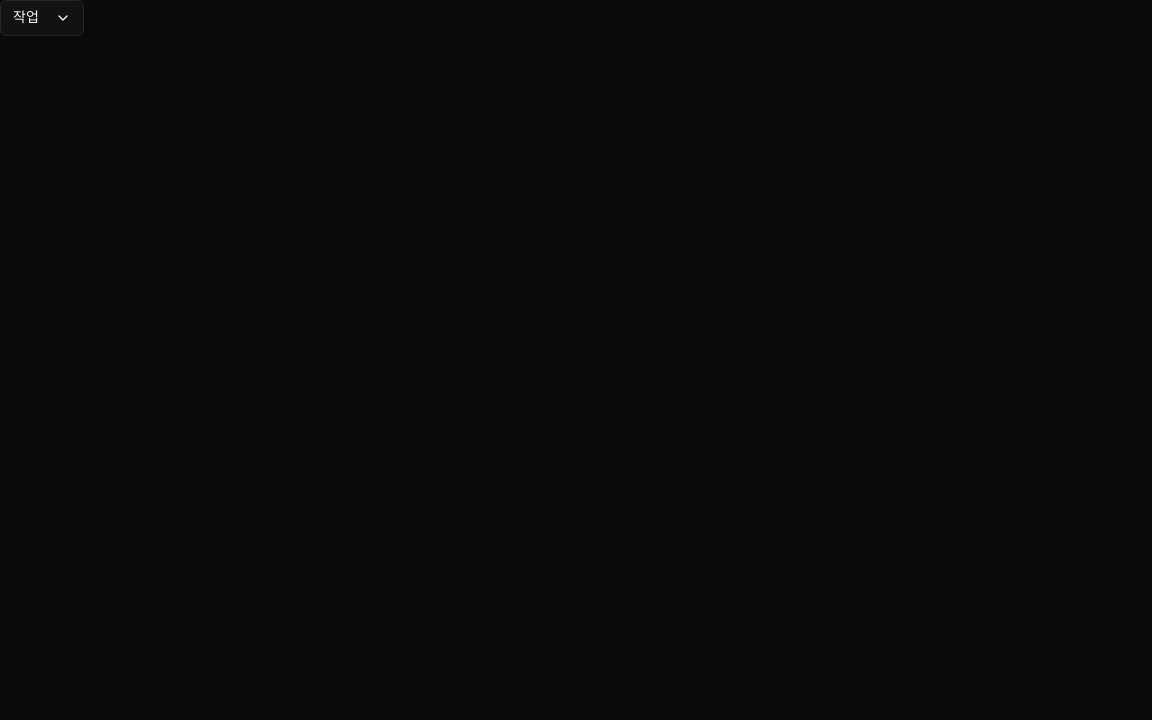
Test: PartyroomsActionsDropdown — status-aware disabled › clicking 메타 수정 opens update-meta dialog
Click the button "작업".
click(42, 18)  # box [0,0,84,36]
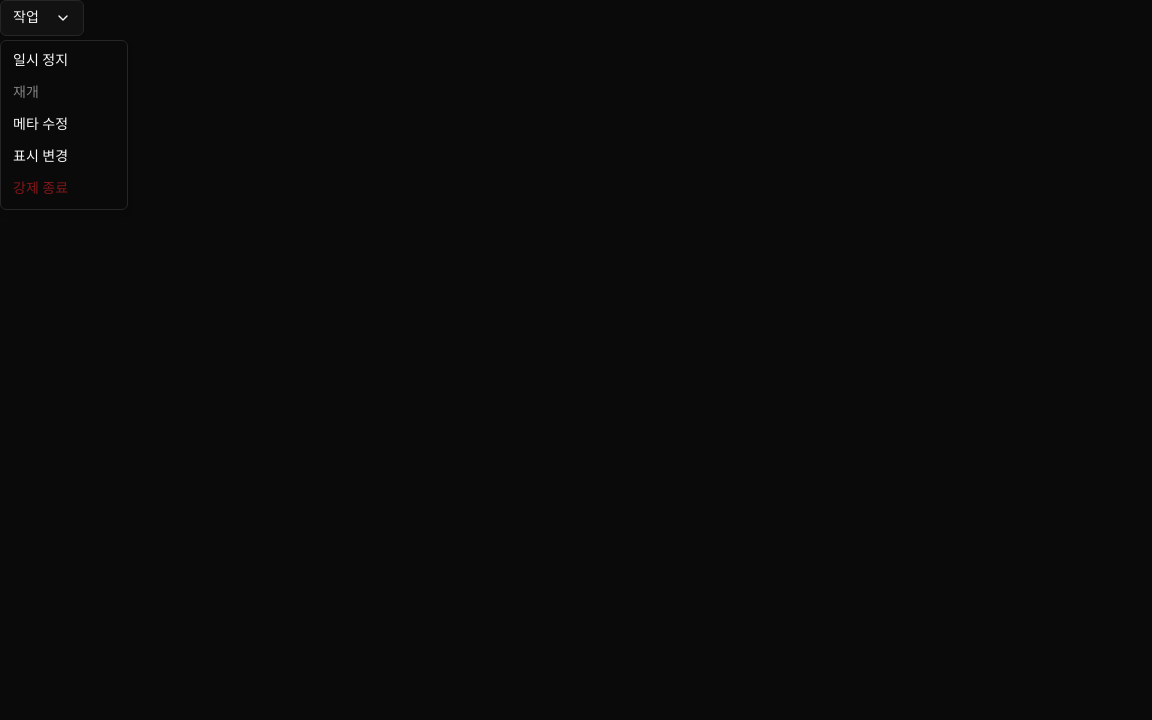
Click the menu item "메타 수정".
click(40, 124)  # box [13,117,68,132]
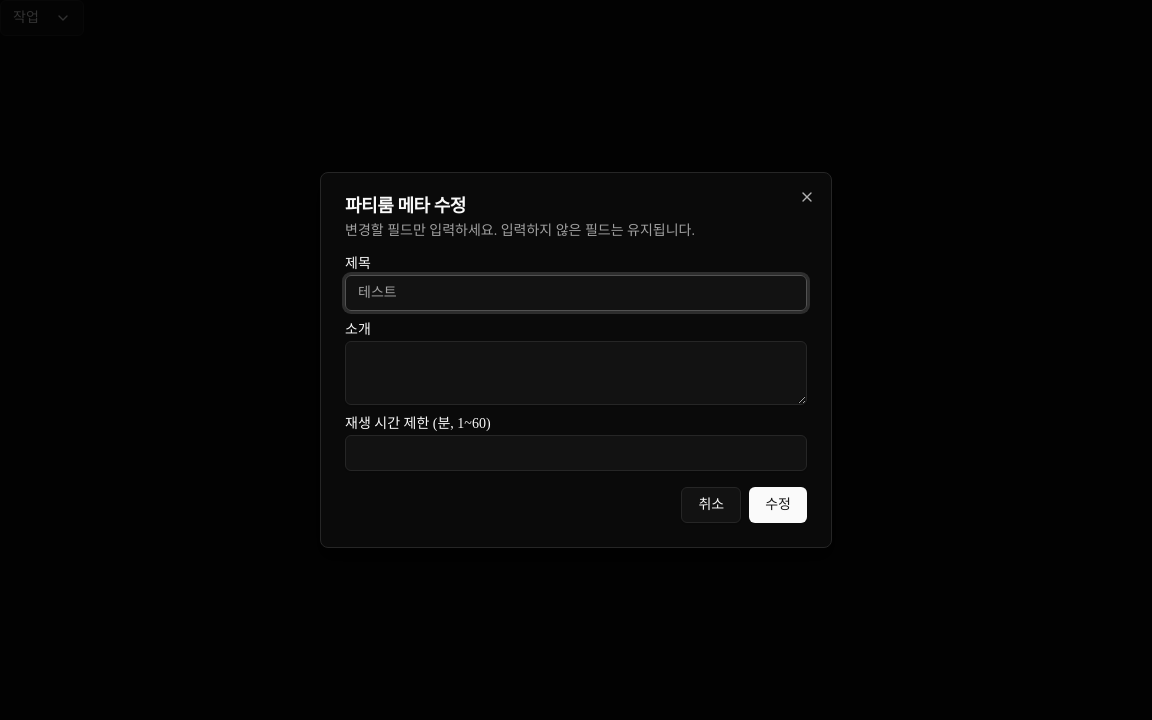
Now the heading "파티룸 메타 수정" is shown, box [345,196,466,216]
